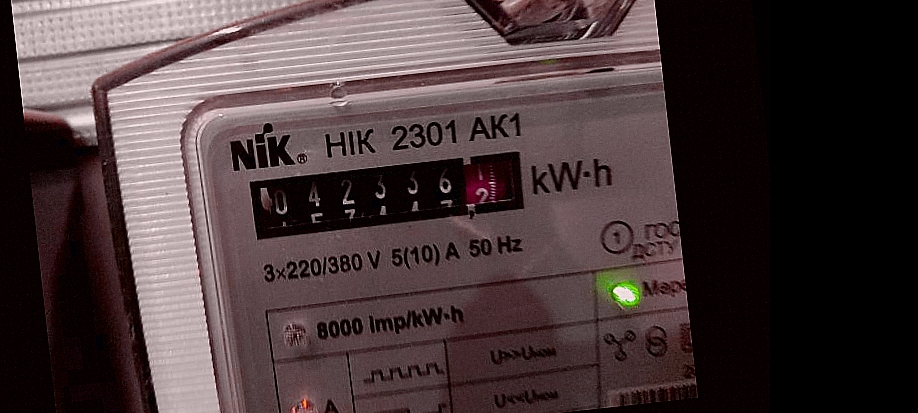0: (270, 186, 289, 216)
1: (471, 159, 485, 182)
2: (337, 175, 356, 205), (472, 184, 490, 204)
3: (400, 165, 420, 196), (369, 170, 387, 200)
4: (303, 177, 323, 208)
6: (434, 163, 455, 195)
screen: (236, 136, 539, 249)
